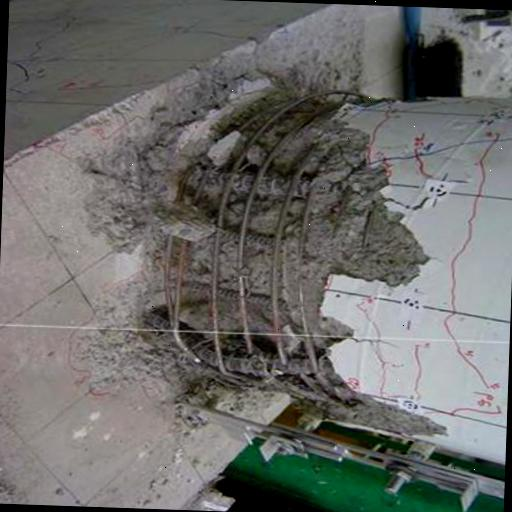spalling: (130, 60, 421, 439)
